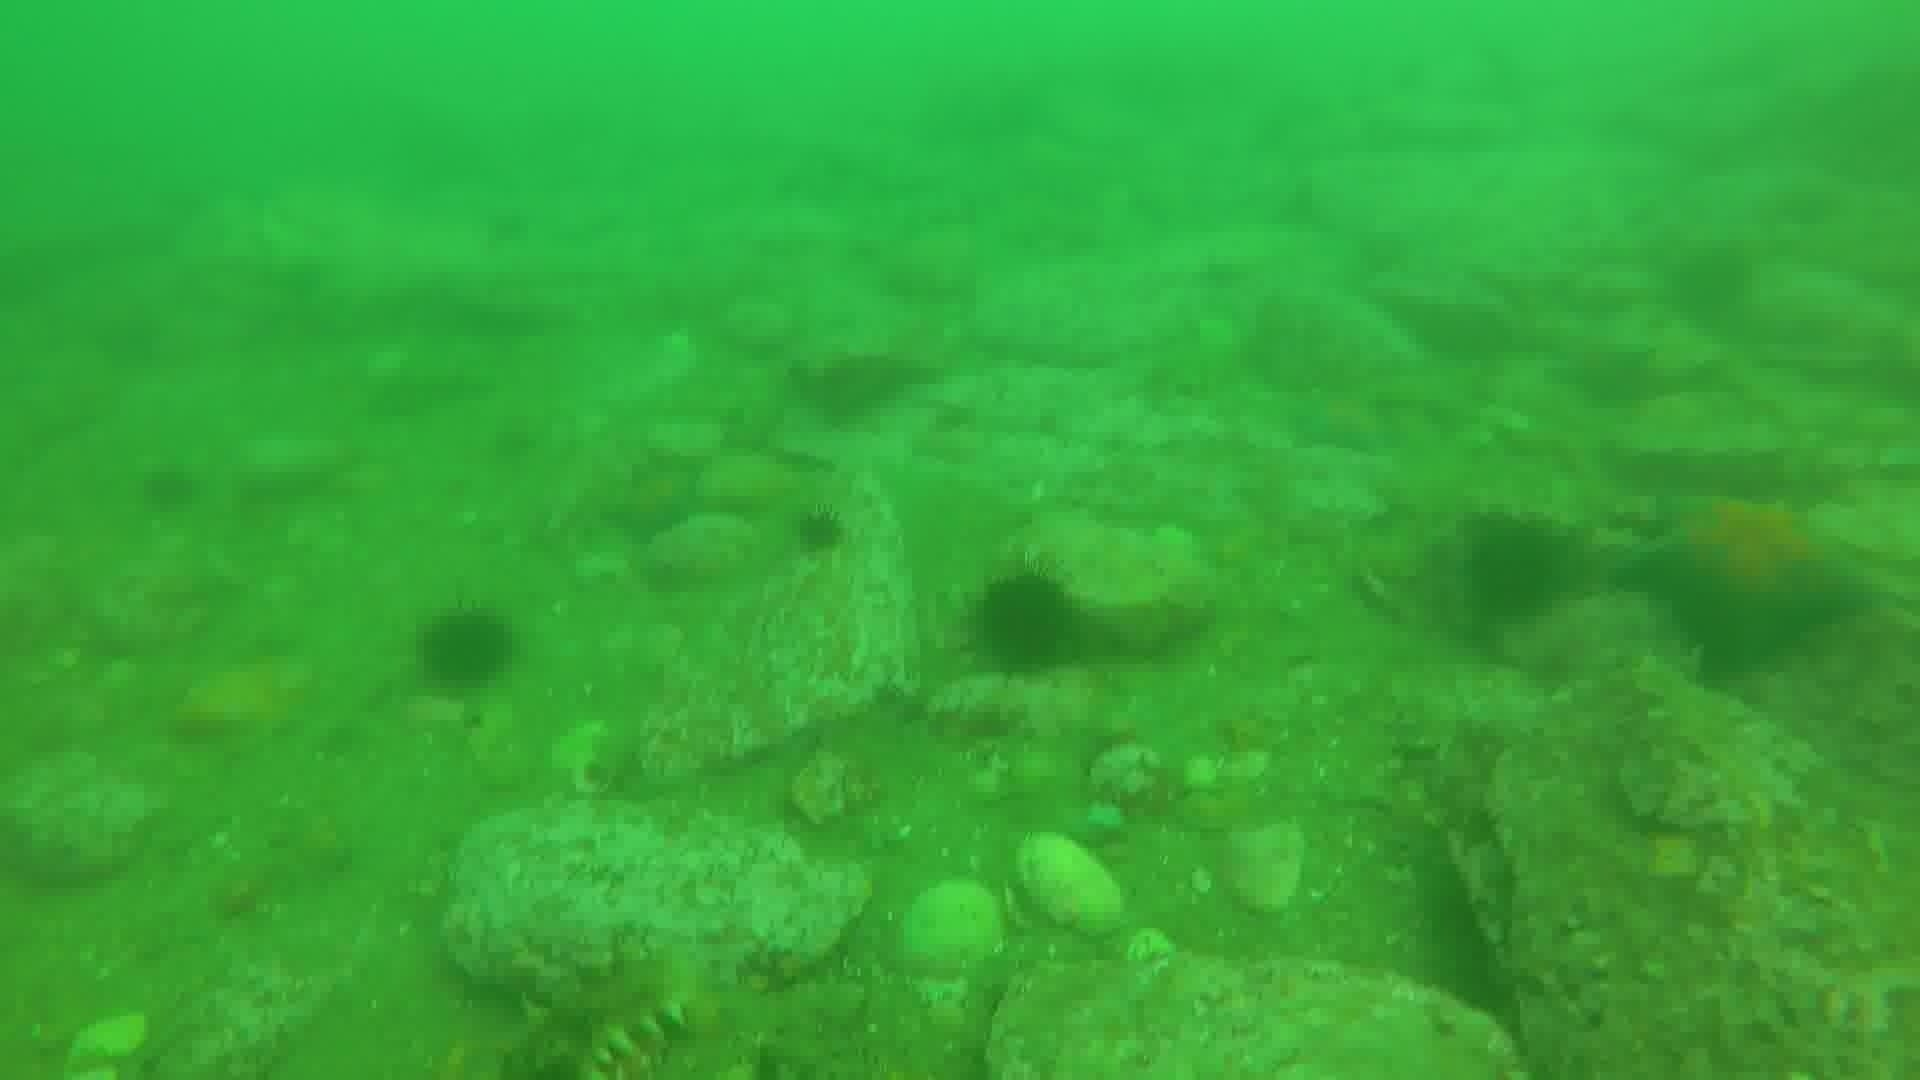echinus: (1453, 512, 1575, 629), (964, 566, 1087, 682), (411, 603, 520, 699), (1663, 240, 1758, 330), (135, 459, 204, 520), (787, 502, 852, 562)
holothurian: (493, 939, 720, 1077)
starfish: (1617, 489, 1874, 679), (597, 455, 709, 546), (1283, 382, 1400, 462)
